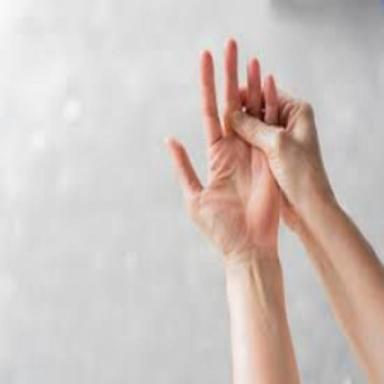normal skin: (169, 41, 384, 384)
